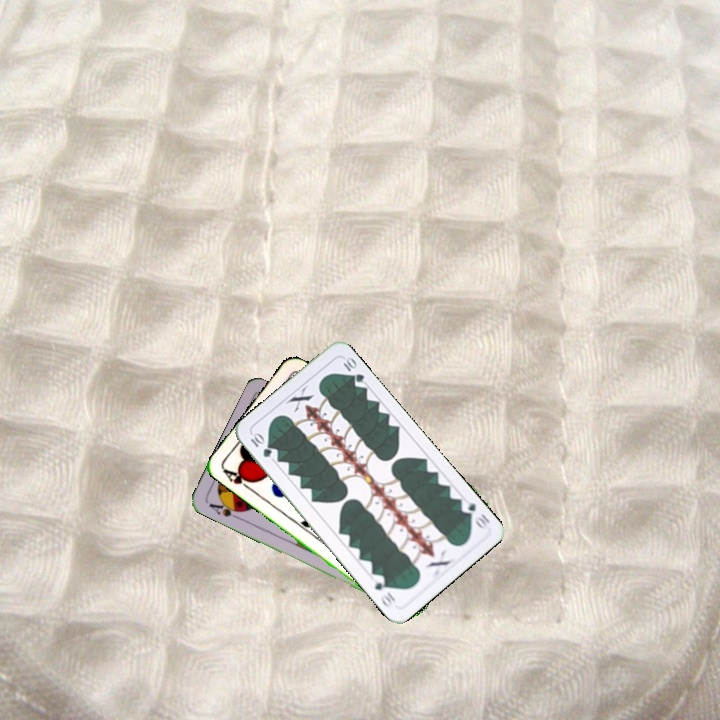G10: (456, 498, 493, 533), (246, 429, 274, 460)
HA: (219, 465, 256, 494)
SA: (205, 496, 245, 522)
